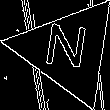N_S: (43, 22, 93, 79)
